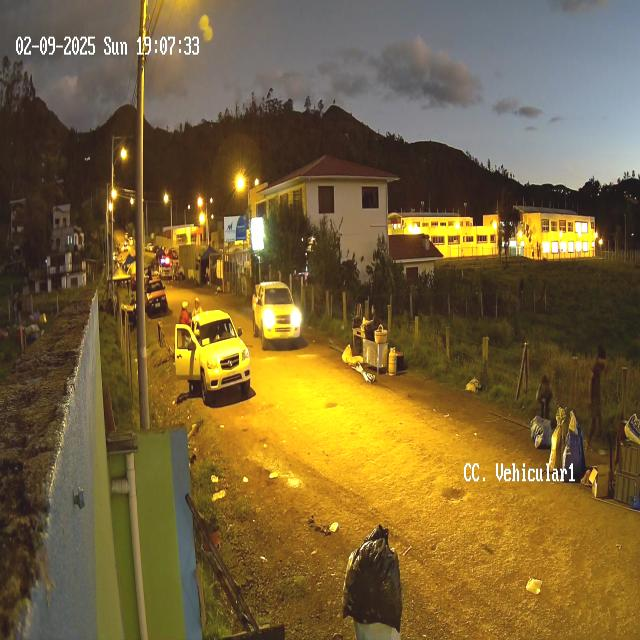CMT: (252, 280, 300, 352)
